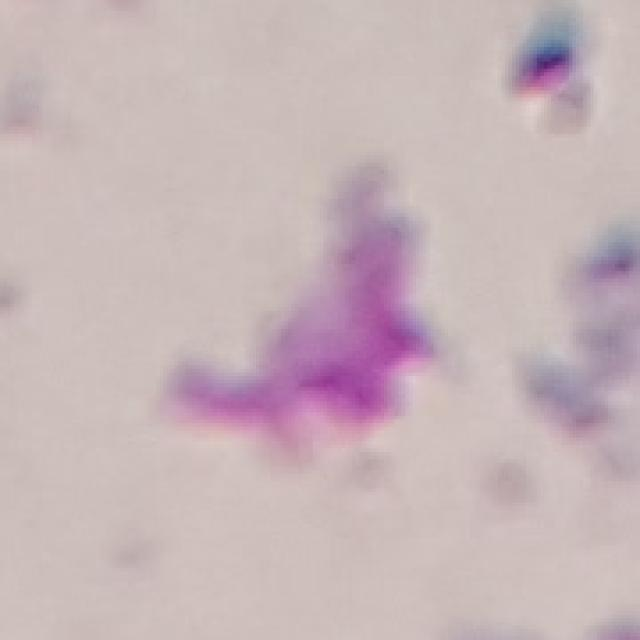non-sperm: (190, 159, 433, 453)
